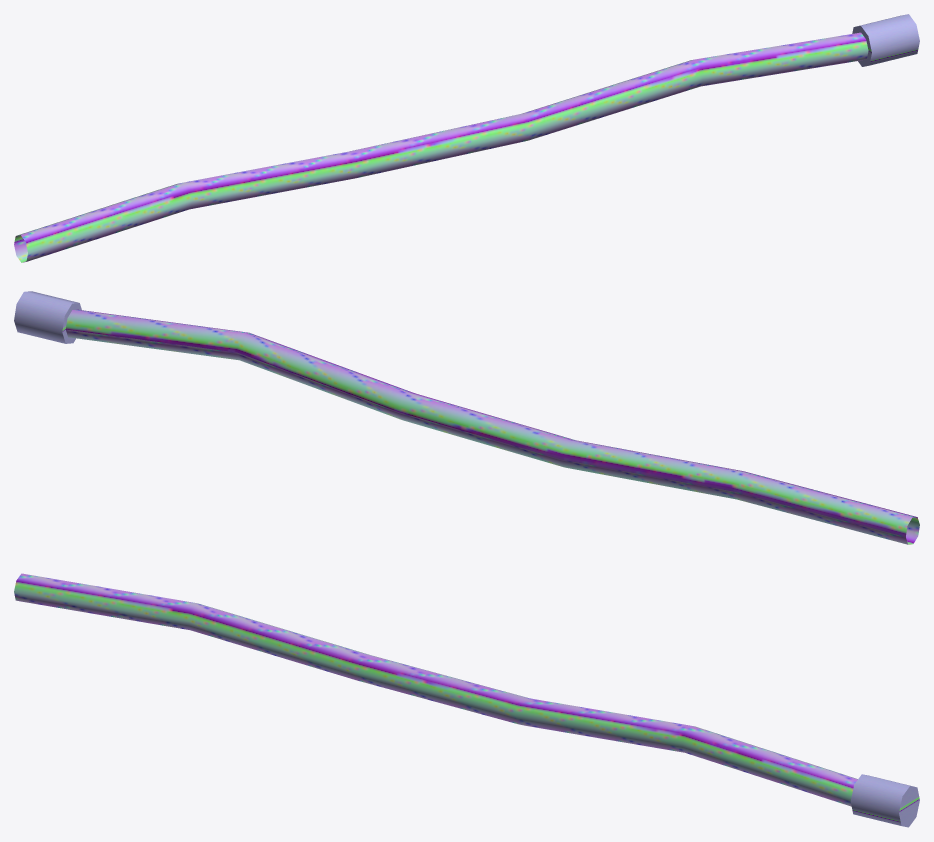
Rendered from LitCableB1.fbx.
3 renders of one model, top to bottom at view 1: azimuth 30°, elevation 25°; view 2: azimuth 150°, elevation 25°; view 3: azimuth 330°, elevation 25°, orthographic.
Parts seen in each view (by area): view 1: LitCableB1; view 2: LitCableB1; view 3: LitCableB1.
Boxes of the visible parts, <box> form: LitCableB1: <box>14,14,919,262</box>; LitCableB1: <box>14,291,919,544</box>; LitCableB1: <box>14,573,919,827</box>.
Bounding box in the file's own units: 106 × 5.69 × 5.18.
Materials: 1 (1 with a texture image).
